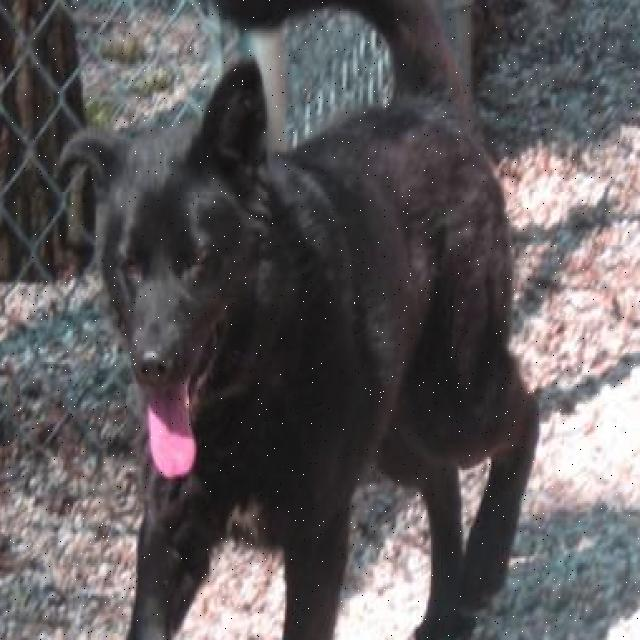Dog: (43, 11, 295, 496)
